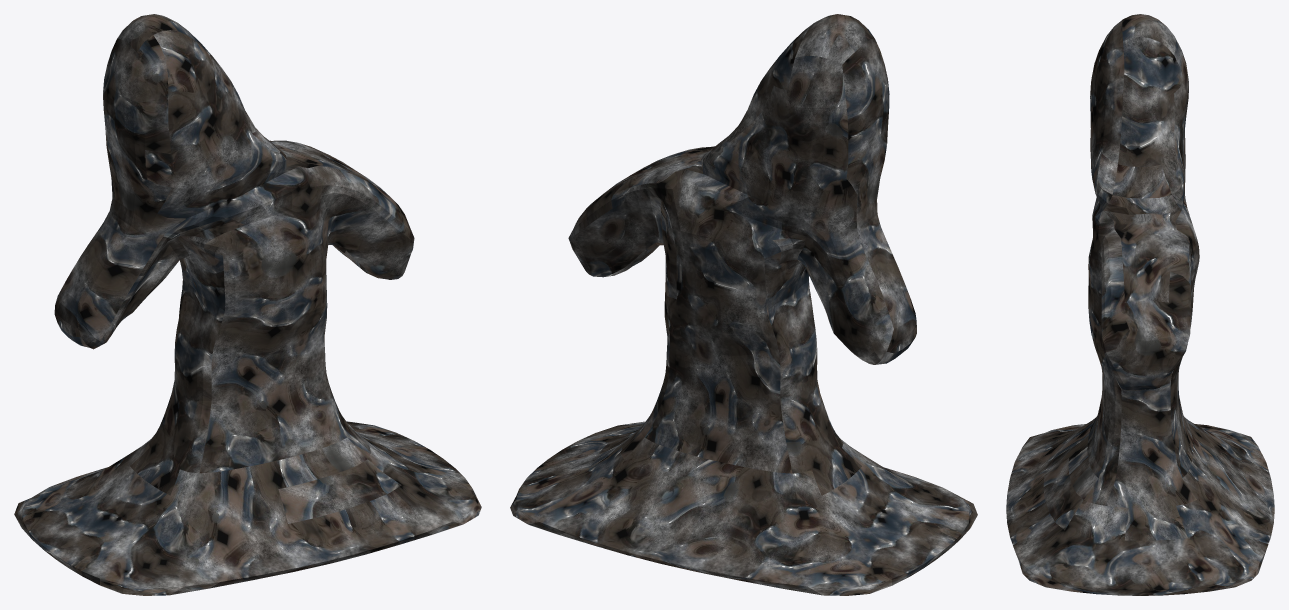
File: Oil.fbx
The picture shows the model from 3 angles, left to right: view 1: azimuth 30°, elevation 25°; view 2: azimuth 150°, elevation 25°; view 3: azimuth 270°, elevation 25°; orthographic projection. The views are drawn at different scales.
Parts seen in each view (by area): view 1: OilEnemy; view 2: OilEnemy; view 3: OilEnemy.
Boxes of the visible parts, x1,y1,x2,y2 form: OilEnemy: (14,14,481,595); OilEnemy: (510,14,977,595); OilEnemy: (1006,14,1274,595).
Size of the model in its own units: 42.26 by 53.98 by 28.65.
